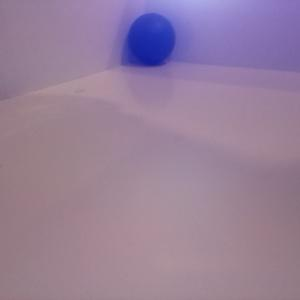dead_ball: (127, 12, 174, 63)
